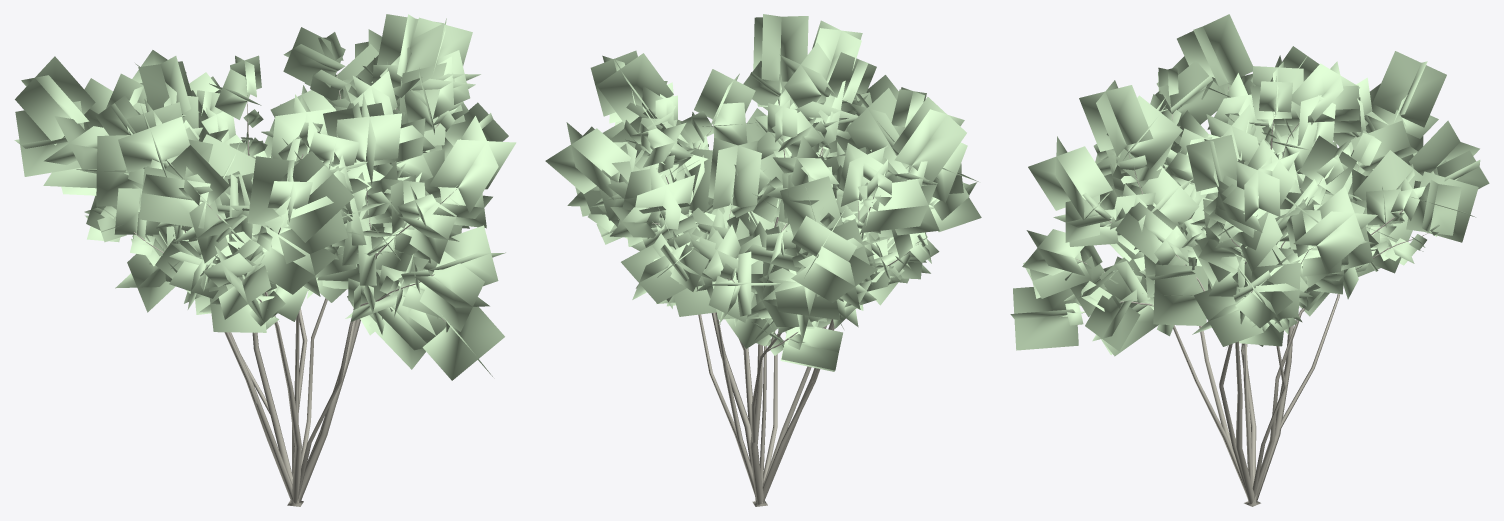
Rendered from bush_2_v1_lod0.glb.
3 views of the same model, side by side, from view 1: azimuth 30°, elevation 25°; view 2: azimuth 150°, elevation 25°; view 3: azimuth 270°, elevation 25° (orthographic). The views are drawn at different scales.
Visible parts, largest first — view 1: Leaves, Branches; view 2: Leaves, Branches; view 3: Leaves, Branches.
Part boxes in pixels (x1,y1,x2,y2): Leaves: [14, 14, 516, 380]; Branches: [134, 72, 456, 506]; Leaves: [545, 14, 981, 371]; Branches: [617, 96, 930, 506]; Leaves: [1010, 14, 1489, 356]; Branches: [1076, 87, 1429, 506].
Size of the model in its own units: 27.72 by 29.93 by 30.97.
